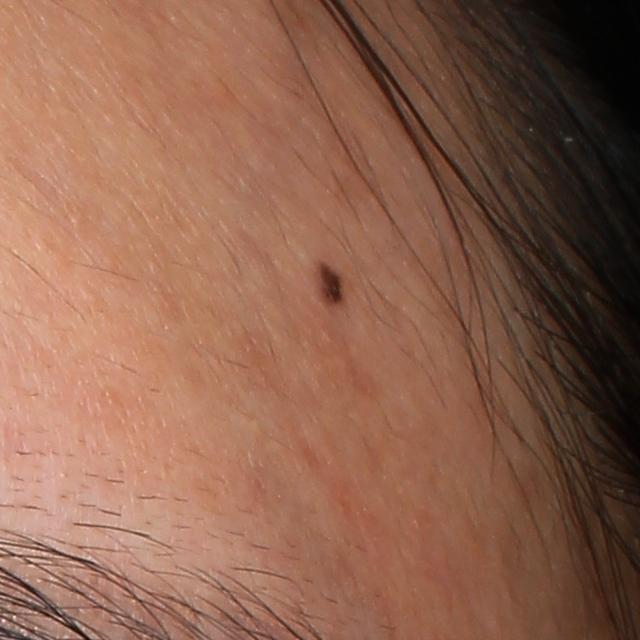nevus: (313, 257, 350, 303)
